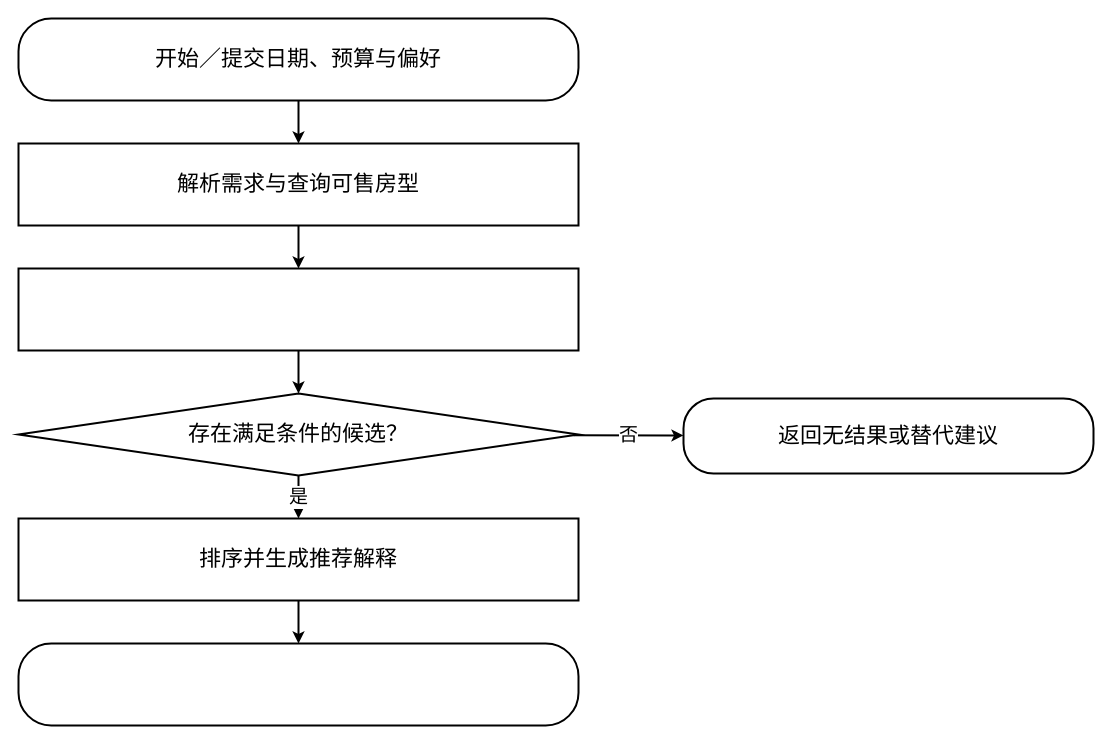
The diagram is 1111 pixels wide and 743 high, and some of its shapes have lost their labels. The shapes that lost their labels are listed below. From the top down, each one's centre as x and y in pixels, then its label:
the point at 298,309: 读取逐日价格及库存
the point at 298,684: 返回最多三个房型及建议
